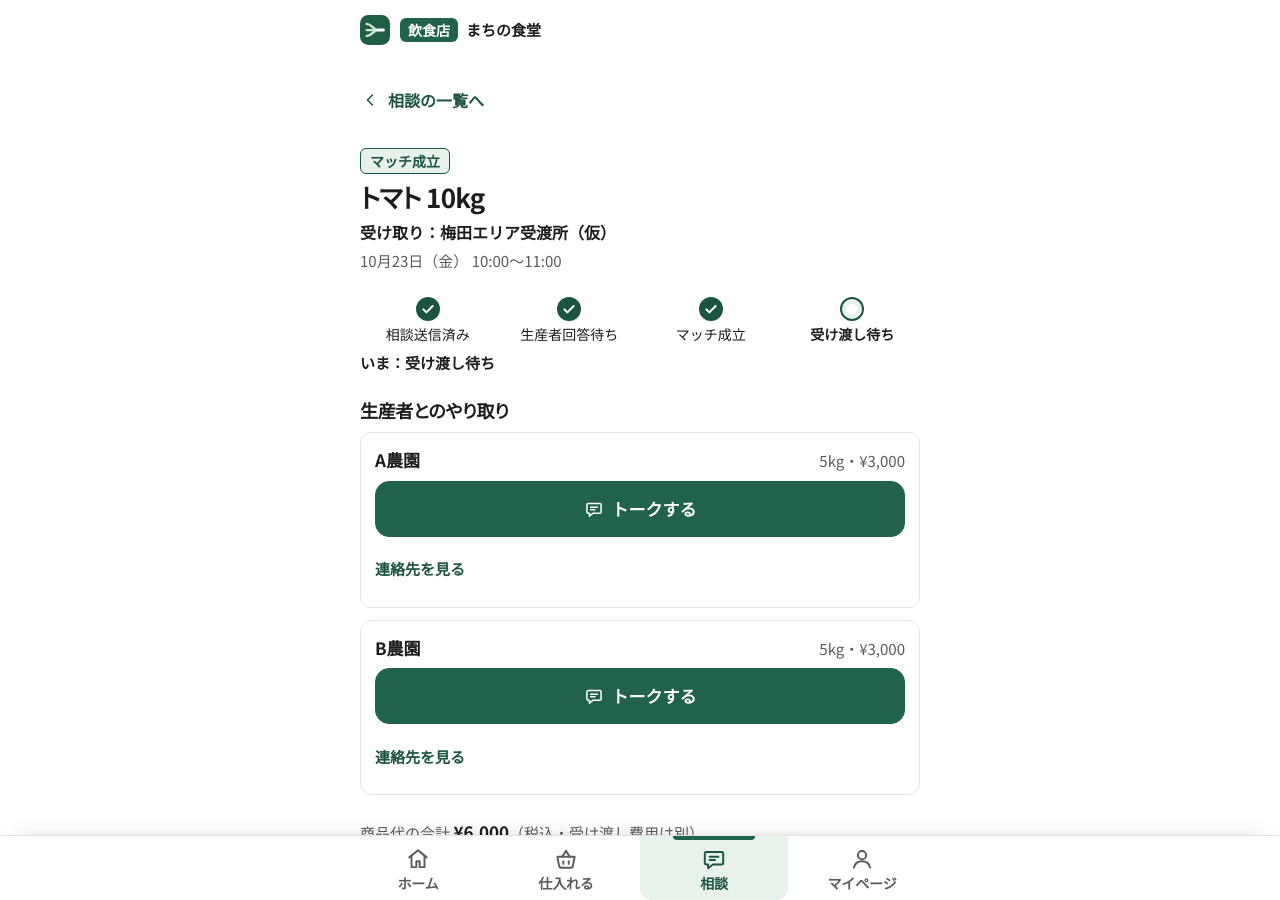
Test: 飲食店の相談一覧・詳細 › 詳細：全農家が対応できる相談（2農家）は「マッチ成立」と「生産者とのやり取り」：農家ごとに「トークする」。電話・メールは「連絡先を見る」を押したときだけ
The image size is (1280, 900).
expect the text with class "state-tag" reads "マッチ成立": met, box [370,151,440,171]
expect the heading "トマト 10kg" is shown: met, box [360,178,484,215]
Click the button with class "talk-contact" below "A農園".
click(420, 569)  # box [363,545,477,593]
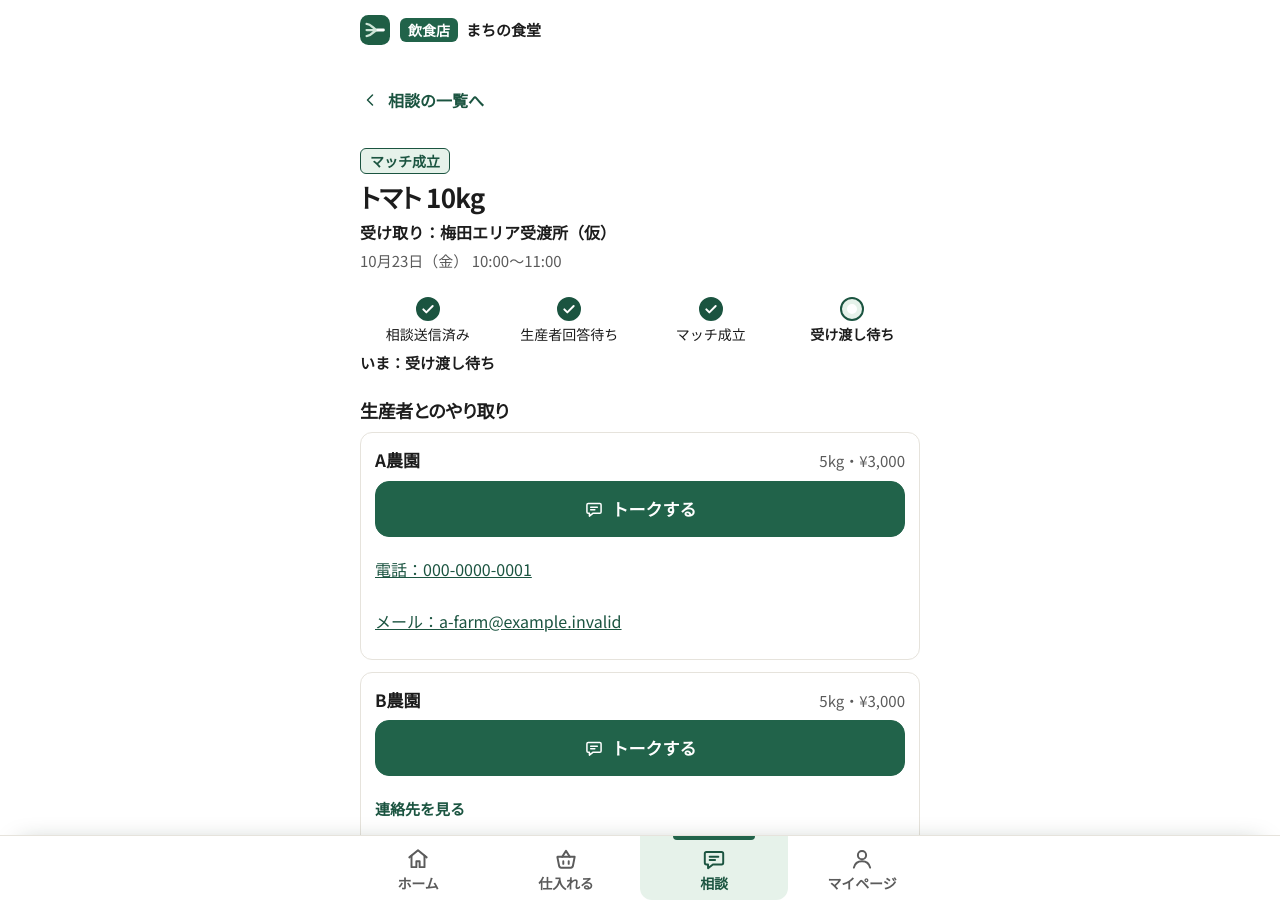
expect the link to "tel:00000000001" reads "電話：000-0000-0001": met, box [375,557,532,581]
expect the element with class "contact-details" shows "メール：a-farm@example.invalid": met, box [375,557,622,633]
